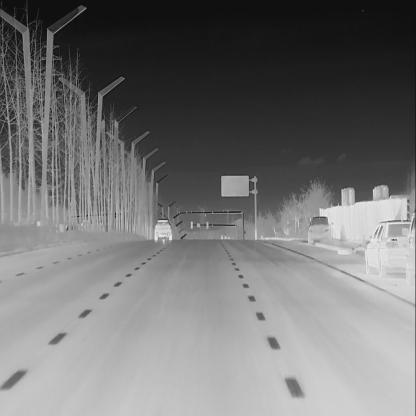car: (362, 217, 410, 278), (404, 211, 416, 292), (306, 216, 332, 244), (153, 219, 172, 241)
